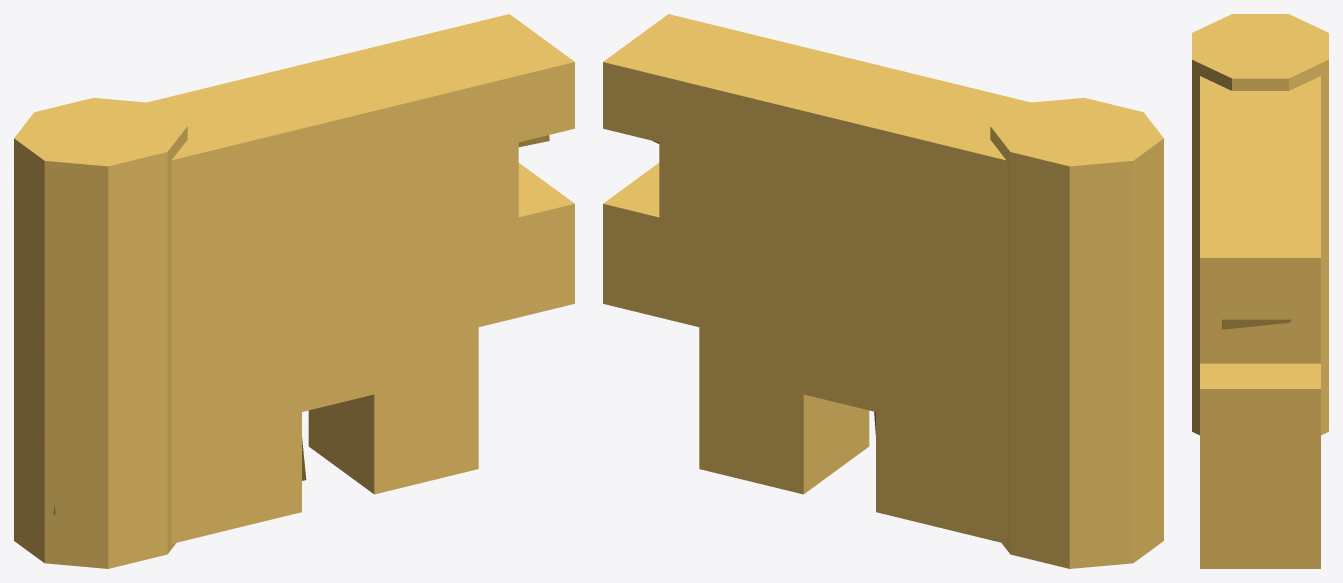
Rendered from 97c_fragment_panneton.fbx.
The picture shows the model from 3 angles, left to right: view 1: azimuth 30°, elevation 25°; view 2: azimuth 150°, elevation 25°; view 3: azimuth 270°, elevation 25°; orthographic projection. The views are drawn at different scales.
Visible parts, largest first — view 1: Lueur; view 2: Lueur; view 3: Lueur, Fragment.
Boxes of the visible parts, x1,y1,x2,y2 form: Lueur: (14,14,574,568); Lueur: (603,14,1163,568); Lueur: (1192,14,1328,568); Fragment: (1221,319,1290,329).
Bounding box in the file's own units: 0.224 × 0.168 × 0.056.
1 material, 1 textured.
